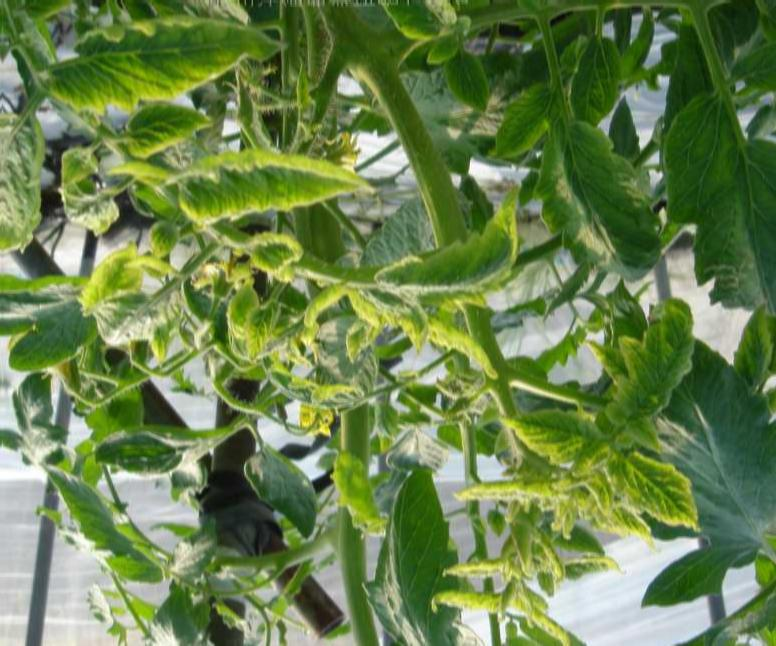Tomato leaf yellow virus: (41, 14, 288, 112), (384, 194, 529, 317), (157, 149, 384, 226), (603, 300, 699, 434), (0, 99, 67, 282), (610, 443, 704, 538), (75, 237, 152, 335), (507, 395, 603, 470), (347, 0, 471, 47)
